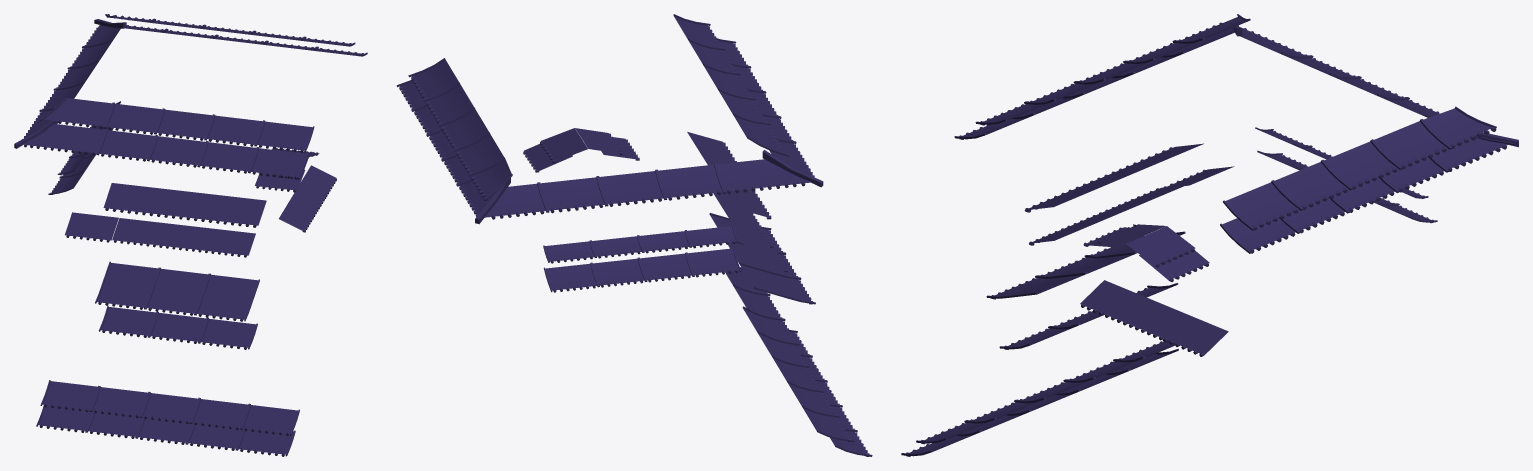
The model's file is toit chinois en pente 1 01.fbx.
3 renders of one model, left to right at view 1: azimuth 30°, elevation 25°; view 2: azimuth 150°, elevation 25°; view 3: azimuth 270°, elevation 25°, orthographic. The views are drawn at different scales.
Parts seen in each view (by area): view 1: Plane.467, Plane.468, Plane.259, Plane.274, Plane.257, Plane.428, Plane.273, Plane.429, Plane.297, Plane.136, Plane.483, Plane.282 (+5 smaller); view 2: Plane.297, Plane.282, Plane.336, Plane.468, Plane.339, Plane.259, Plane.274, Plane.514, Plane.280, Plane.467, Plane.273, Plane.428 (+4 smaller); view 3: Plane.282, Plane.280, Plane.514, Plane.136, Plane.468, Plane.259, Plane.274, Plane.297, Plane.257, Plane.467, Plane.428, Plane.518 (+3 smaller).
Boxes of the visible parts, x1,y1,x2,y2 form: Plane.467: [22, 124, 308, 179]; Plane.468: [40, 97, 314, 152]; Plane.259: [40, 380, 299, 435]; Plane.274: [95, 261, 259, 321]; Plane.257: [36, 405, 295, 456]; Plane.428: [103, 183, 266, 227]; Plane.273: [98, 305, 257, 349]; Plane.429: [112, 218, 255, 257]; Plane.297: [22, 25, 120, 139]; Plane.136: [279, 183, 326, 232]; Plane.483: [65, 212, 118, 242]; Plane.282: [105, 14, 355, 46]; Plane.297: [485, 159, 811, 219]; Plane.282: [408, 58, 512, 200]; Plane.336: [543, 247, 741, 292]; Plane.468: [673, 14, 789, 157]; Plane.339: [543, 225, 738, 263]; Plane.259: [742, 306, 854, 442]; Plane.274: [709, 213, 815, 304]; Plane.514: [523, 128, 639, 172]; Plane.280: [396, 80, 493, 216]; Plane.467: [716, 38, 814, 177]; Plane.273: [725, 267, 799, 345]; Plane.428: [687, 132, 771, 219]; Plane.282: [1223, 106, 1496, 230]; Plane.280: [1220, 137, 1514, 253]; Plane.514: [1083, 224, 1209, 282]; Plane.136: [1080, 280, 1186, 340]; Plane.468: [975, 14, 1250, 125]; Plane.259: [916, 339, 1175, 444]; Plane.274: [986, 231, 1185, 299]; Plane.297: [1239, 27, 1484, 138]; Plane.257: [901, 348, 1178, 456]; Plane.467: [954, 28, 1235, 139]; Plane.428: [1024, 143, 1203, 212]; Plane.518: [1162, 314, 1228, 356].
Size of the model in its own units: 5931 by 4397 by 6461.
